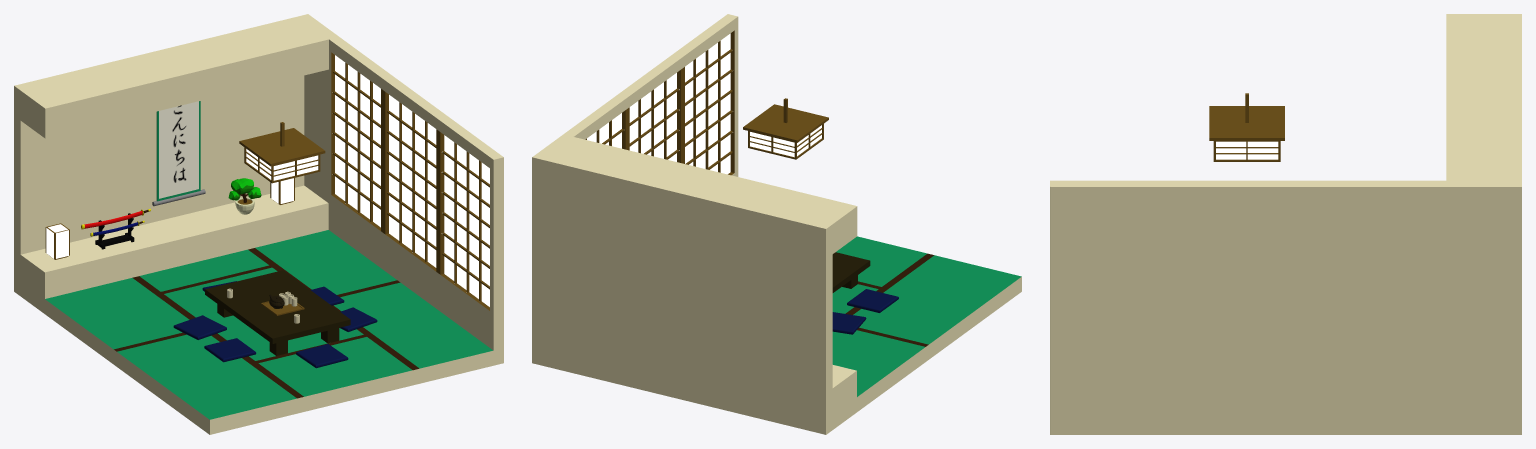
The model's file is japanese_room.glb.
3 renders of one model, left to right at view 1: azimuth 30°, elevation 25°; view 2: azimuth 150°, elevation 25°; view 3: azimuth 270°, elevation 25°, orthographic. The views are drawn at different scales.
Parts seen in each view (by area): view 1: Object_19, Object_2, Object_20, Object_10, Object_17, Object_7, Object_13, Object_14, Object_3; view 2: Object_19, Object_2, Object_20, Object_10, Object_13, Object_17, Object_14; view 3: Object_19, Object_10, Object_20.
Part boxes in pixels (<box>): Object_19: <box>14,14,503,434</box>; Object_2: <box>45,230,492,419</box>; Object_20: <box>46,55,489,306</box>; Object_10: <box>45,52,489,315</box>; Object_17: <box>205,270,350,355</box>; Object_7: <box>159,101,198,198</box>; Object_13: <box>173,281,377,368</box>; Object_14: <box>114,193,419,398</box>; Object_3: <box>156,101,200,201</box>; Object_19: <box>532,14,1021,434</box>; Object_2: <box>832,236,1021,396</box>; Object_20: <box>587,33,821,174</box>; Object_10: <box>585,30,828,175</box>; Object_13: <box>832,289,898,334</box>; Object_17: <box>832,252,870,292</box>; Object_14: <box>845,253,934,346</box>; Object_19: <box>1050,14,1521,434</box>; Object_10: <box>1209,93,1284,161</box>; Object_20: <box>1216,141,1278,159</box>.
Bounding box in the file's own units: 5.99 × 4.18 × 6.91.
Materials: 18 (1 with a texture image).
